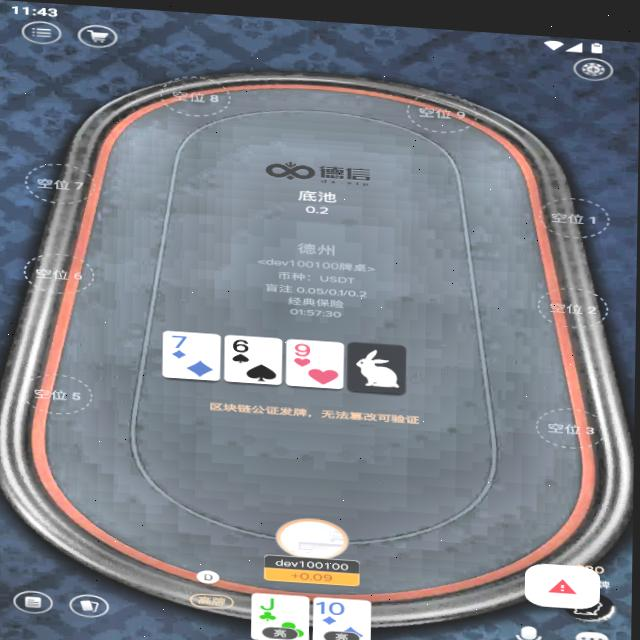10f: (316, 595, 348, 613)
6s: (227, 333, 260, 352)
7f: (168, 331, 194, 348)
9h: (291, 337, 318, 356)
Jm: (257, 591, 283, 609)
